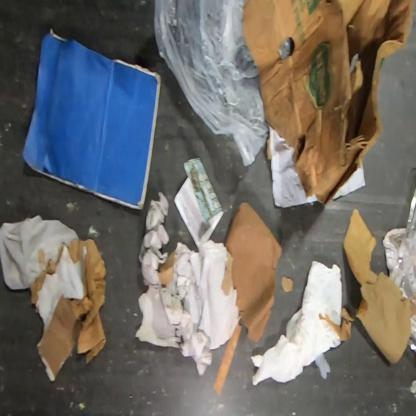cardboard: (242, 0, 415, 211), (20, 27, 162, 213), (158, 202, 283, 397), (318, 209, 416, 364), (29, 238, 106, 382), (280, 275, 294, 293)
rigid_plastic: (393, 149, 415, 381)
soft_plastic: (153, 0, 270, 168)
